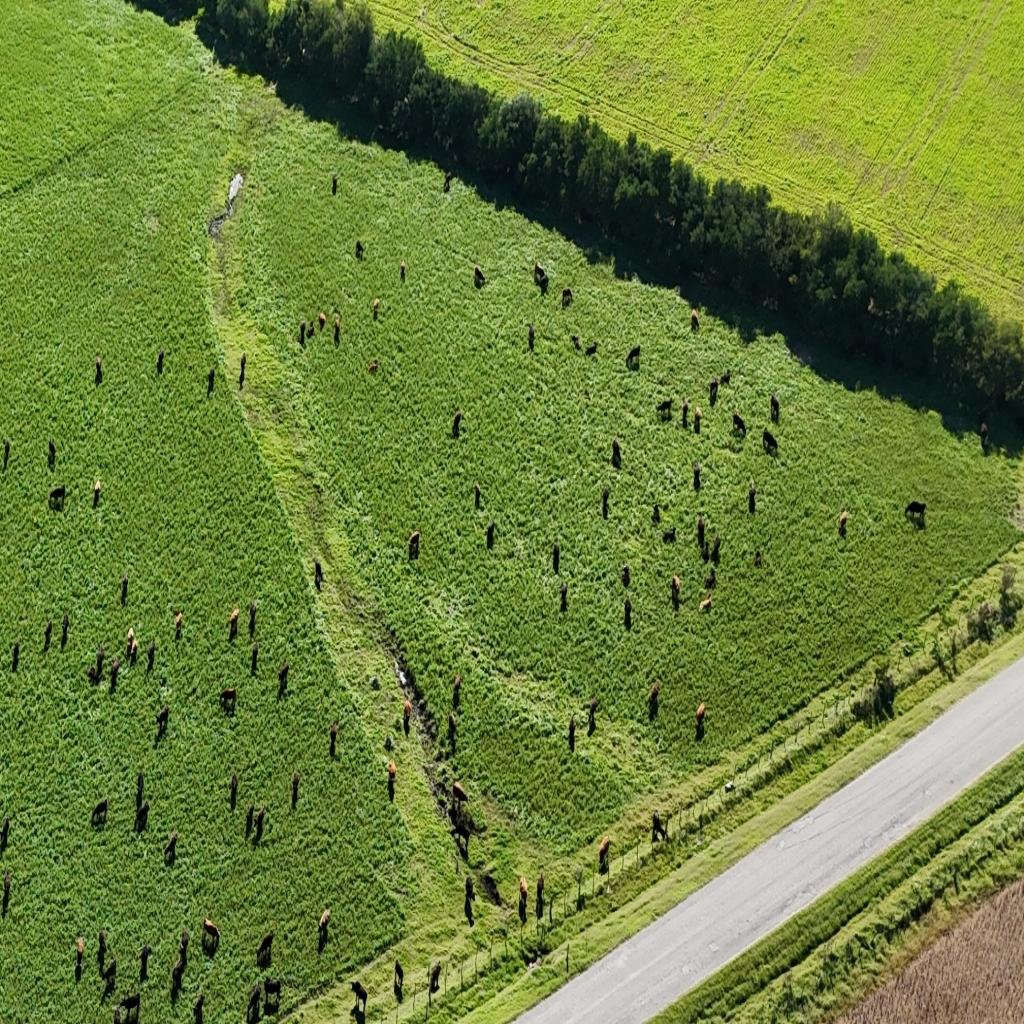cow: (117, 992, 140, 1022), (202, 916, 220, 952), (256, 932, 274, 967), (247, 982, 261, 1022), (350, 980, 368, 1011), (263, 977, 281, 1007), (171, 956, 184, 996), (91, 798, 108, 828), (904, 500, 926, 523), (140, 942, 152, 982), (136, 799, 150, 832), (598, 835, 610, 873), (165, 828, 178, 862), (102, 960, 116, 990), (449, 802, 464, 830), (49, 486, 66, 510), (763, 429, 778, 456), (97, 931, 107, 971), (450, 780, 461, 816), (220, 686, 236, 710), (429, 961, 441, 993), (193, 990, 205, 1022), (2, 873, 11, 913), (656, 398, 672, 420), (732, 412, 746, 437), (587, 697, 597, 731), (0, 816, 10, 850), (318, 908, 331, 934), (156, 704, 168, 732), (75, 936, 83, 978), (536, 875, 544, 916), (627, 344, 640, 369), (464, 874, 474, 906), (255, 805, 265, 837), (136, 769, 144, 808), (394, 957, 404, 988), (408, 530, 420, 555), (770, 394, 780, 424), (534, 261, 546, 286), (710, 534, 720, 564), (452, 675, 461, 707), (650, 682, 660, 710), (179, 929, 189, 957), (96, 643, 105, 674), (110, 657, 119, 688), (449, 712, 457, 746), (246, 802, 254, 836), (452, 409, 462, 436), (229, 608, 238, 638), (697, 515, 705, 548), (329, 722, 337, 755), (612, 438, 621, 467), (279, 659, 289, 685), (314, 560, 323, 588), (709, 378, 718, 406), (519, 875, 528, 903), (230, 772, 237, 808), (979, 422, 988, 450), (318, 921, 328, 946), (403, 697, 411, 727), (552, 542, 560, 572), (560, 580, 568, 610), (748, 483, 756, 513), (248, 601, 256, 631), (994, 391, 1006, 411), (624, 596, 631, 630), (61, 612, 69, 641), (127, 627, 135, 656), (662, 526, 676, 542), (693, 461, 701, 489), (602, 486, 610, 514), (486, 520, 494, 548), (44, 620, 52, 648), (250, 644, 258, 672), (474, 264, 484, 286), (705, 570, 716, 590), (696, 702, 706, 724), (148, 640, 156, 667), (672, 574, 681, 598), (12, 642, 20, 669), (129, 638, 138, 662), (702, 538, 711, 562), (48, 438, 56, 464), (474, 482, 482, 508), (700, 594, 712, 611), (87, 664, 97, 684), (562, 286, 572, 306), (208, 366, 216, 391), (568, 716, 576, 741), (121, 572, 128, 600), (3, 438, 10, 466), (292, 772, 298, 804), (839, 511, 847, 534), (586, 342, 598, 357), (113, 1006, 123, 1024), (720, 369, 731, 385), (691, 308, 699, 330), (388, 758, 396, 780), (540, 274, 548, 295), (682, 400, 688, 428), (622, 564, 629, 587), (356, 239, 364, 259), (652, 504, 660, 524), (318, 310, 326, 330), (175, 612, 183, 632), (96, 356, 102, 382), (528, 325, 534, 351), (388, 770, 394, 796), (367, 361, 378, 375), (300, 319, 306, 343), (694, 408, 700, 432), (334, 319, 340, 343), (373, 298, 380, 317), (158, 348, 164, 370), (572, 334, 580, 350), (306, 322, 314, 338), (93, 478, 101, 494), (332, 174, 338, 194), (400, 260, 406, 280), (754, 550, 761, 567), (444, 172, 452, 186), (240, 353, 246, 371)
